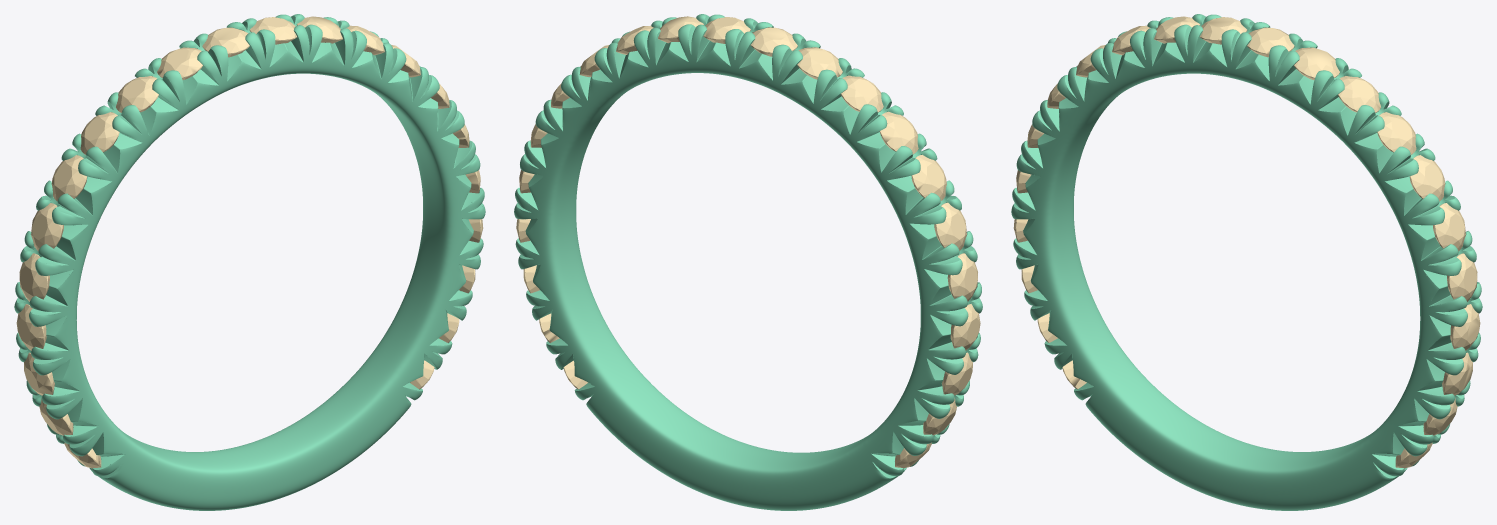
The picture shows the model from 3 angles, left to right: view 1: azimuth 30°, elevation 25°; view 2: azimuth 150°, elevation 25°; view 3: azimuth 330°, elevation 25°; orthographic projection.
Parts seen in each view (by area): view 1: Metal02, Diamond_Round.003, Diamond_Round.004, Diamond_Round.002, Diamond_Round.005, Diamond_Round.001, Diamond_Round.006, Diamond_Round.021, Diamond_Round.007, Diamond_Round.020, Diamond_Round.008, Diamond_Round (+1 smaller); view 2: Metal02, Diamond_Round.003, Diamond_Round.004, Diamond_Round.002, Diamond_Round.005, Diamond_Round.001, Diamond_Round.006, Diamond_Round.021, Diamond_Round.007, Diamond_Round.020, Diamond_Round.008, Diamond_Round (+1 smaller); view 3: Metal02, Diamond_Round.017, Diamond_Round.016, Diamond_Round.018, Diamond_Round.015, Diamond_Round, Diamond_Round.014, Diamond_Round.020, Diamond_Round.013, Diamond_Round.021, Diamond_Round.012, Diamond_Round.001 (+1 smaller).
Part boxes in pixels (x1,y1,x2,y2): Metal02: (14, 14, 485, 510); Diamond_Round.003: (80, 112, 119, 154); Diamond_Round.004: (51, 155, 87, 201); Diamond_Round.002: (116, 76, 158, 112); Diamond_Round.005: (31, 203, 63, 251); Diamond_Round.001: (157, 47, 202, 79); Diamond_Round.006: (19, 253, 49, 301); Diamond_Round.021: (202, 27, 249, 57); Diamond_Round.007: (16, 304, 46, 350); Diamond_Round.020: (249, 17, 296, 44); Diamond_Round.008: (24, 352, 54, 395); Diamond_Round: (296, 16, 342, 43); Metal02: (514, 14, 982, 510); Diamond_Round.003: (879, 111, 918, 154); Diamond_Round.004: (911, 155, 946, 200); Diamond_Round.002: (841, 75, 883, 112); Diamond_Round.005: (934, 202, 966, 250); Diamond_Round.001: (797, 47, 842, 79); Diamond_Round.006: (947, 253, 977, 301); Diamond_Round.021: (750, 27, 797, 56); Diamond_Round.007: (950, 304, 980, 350); Diamond_Round.020: (703, 17, 750, 43); Diamond_Round.008: (942, 352, 972, 395); Diamond_Round: (658, 16, 703, 43); Metal02: (1011, 14, 1482, 510); Diamond_Round.017: (1377, 112, 1416, 154); Diamond_Round.016: (1409, 155, 1445, 201); Diamond_Round.018: (1338, 76, 1380, 112); Diamond_Round.015: (1433, 203, 1465, 251); Diamond_Round: (1294, 47, 1339, 79); Diamond_Round.014: (1447, 253, 1477, 301); Diamond_Round.020: (1247, 27, 1294, 57); Diamond_Round.013: (1450, 304, 1480, 350); Diamond_Round.021: (1199, 17, 1247, 44); Diamond_Round.012: (1442, 352, 1472, 395); Diamond_Round.001: (1154, 16, 1200, 43).
Bounding box in the file's own units: 20.56 × 20.56 × 2.45.
